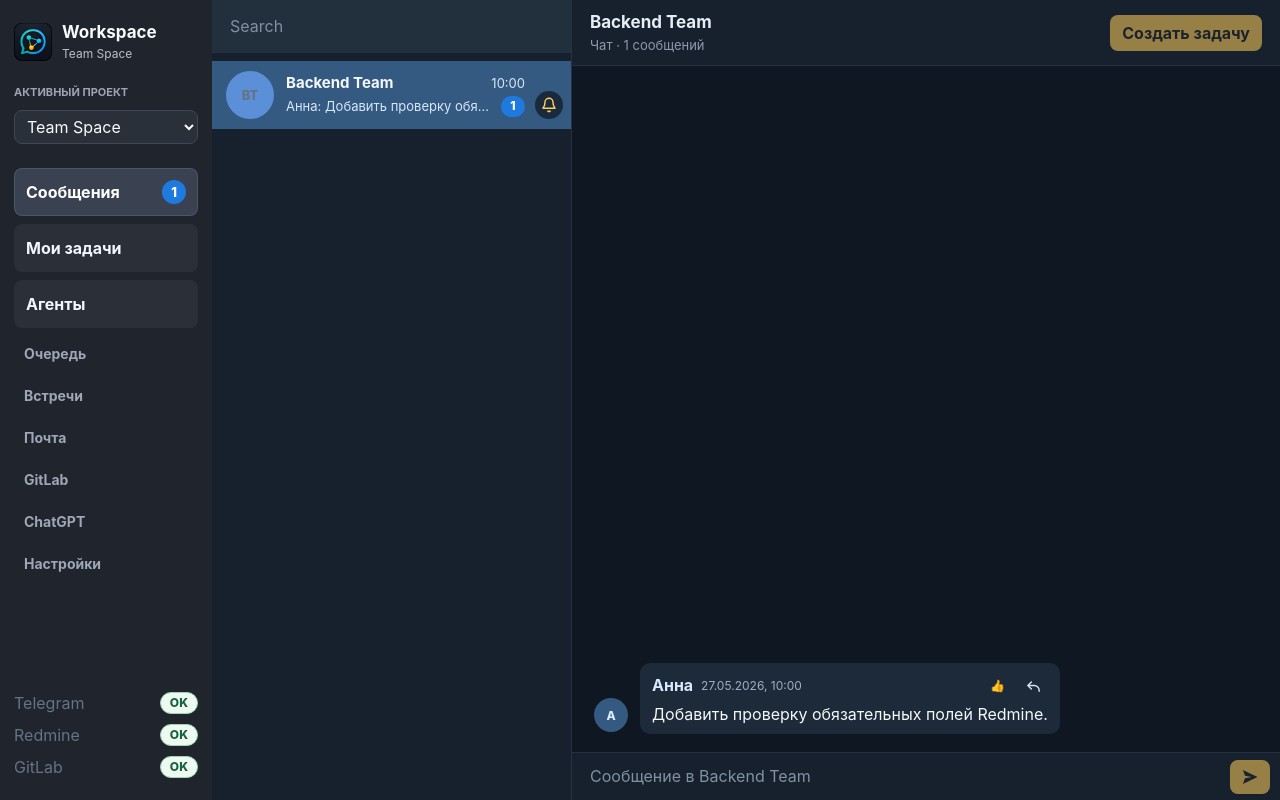
Test: App › starts an agent from an opened Redmine issue with selected folder and extra prompt
The image size is (1280, 800).
Click the button "Мои задачи" at {"x": 106, "y": 248}, box [14,224,198,272]
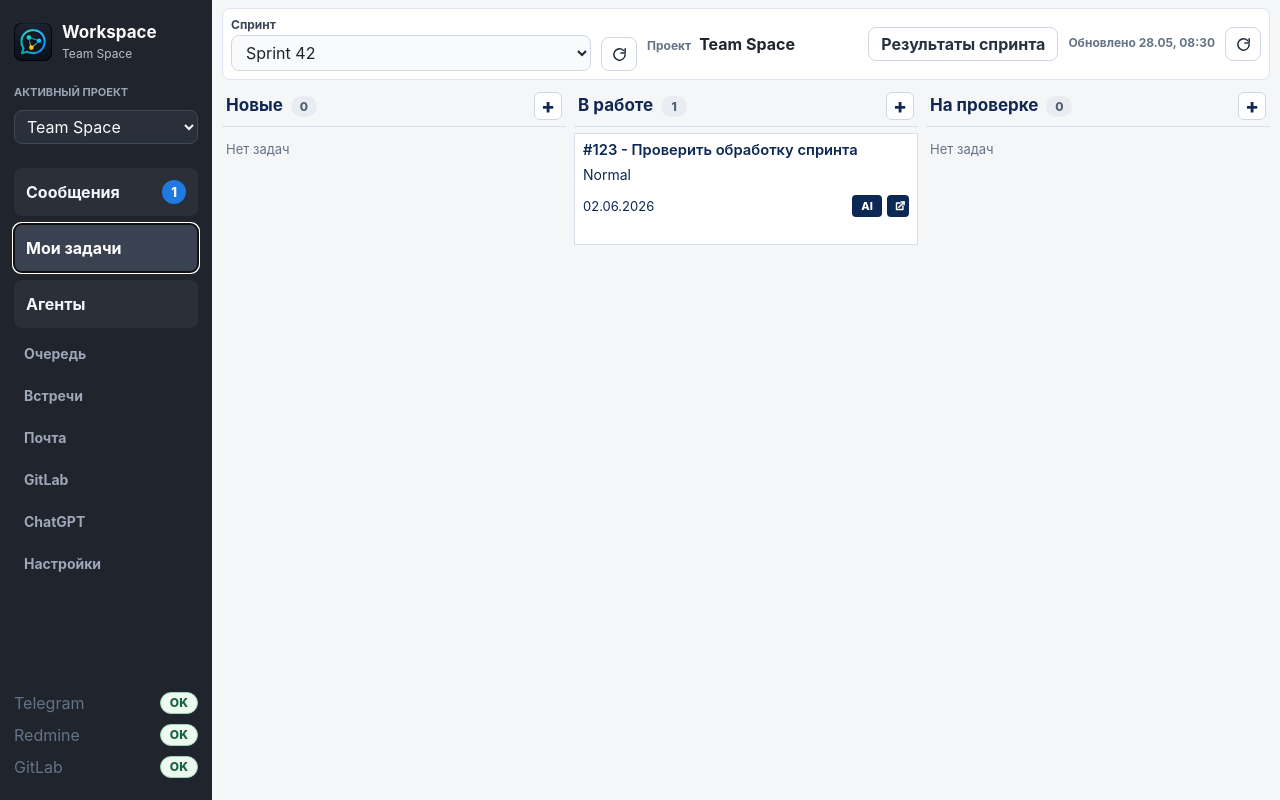
Expected: the heading "#123 - Проверить обработку спринта" is shown, [583,142,901,160]
Click the button with aria-label "Открыть карточку задачи #123 в приложении" at {"x": 745, "y": 150}, box [574,133,918,245]
(page scrolled)
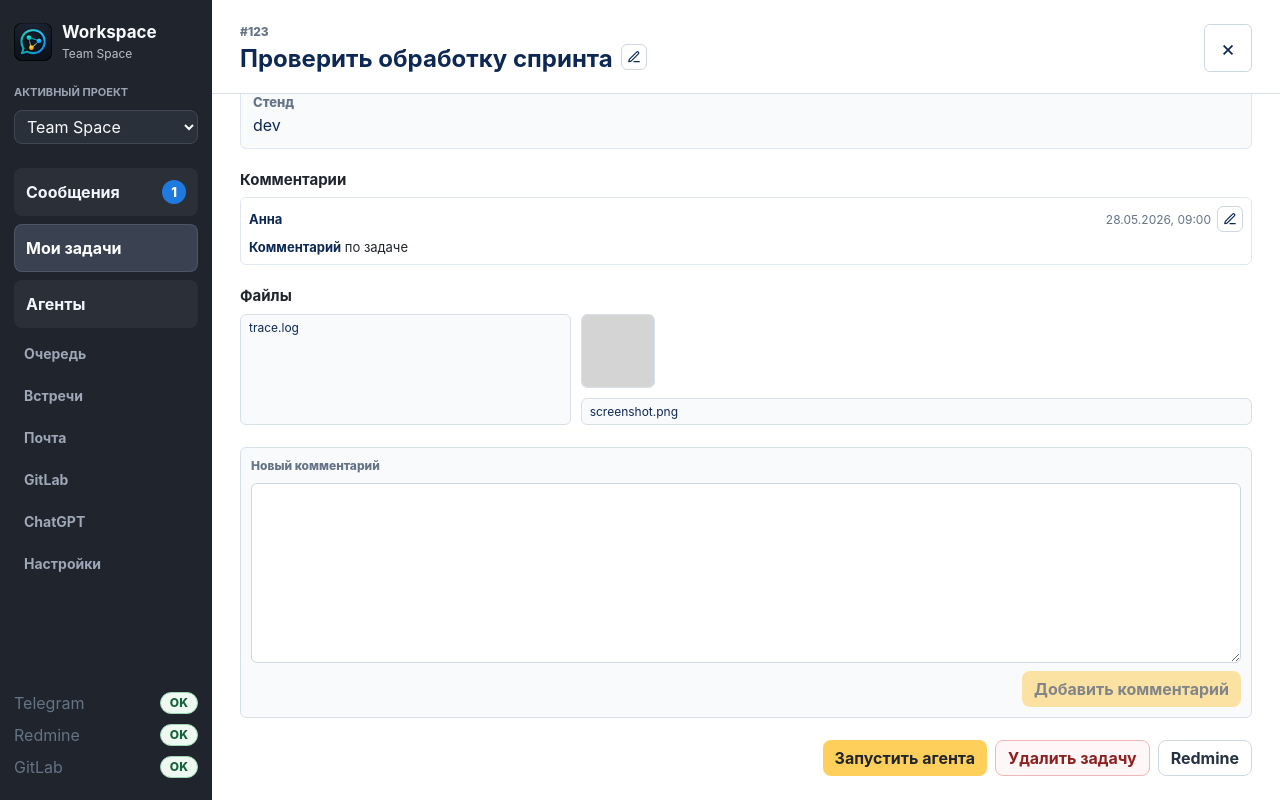
Expected: the element named "Задача #123" is shown
Click the button "Запустить агента" at {"x": 905, "y": 758}, box [823,740,987,776]
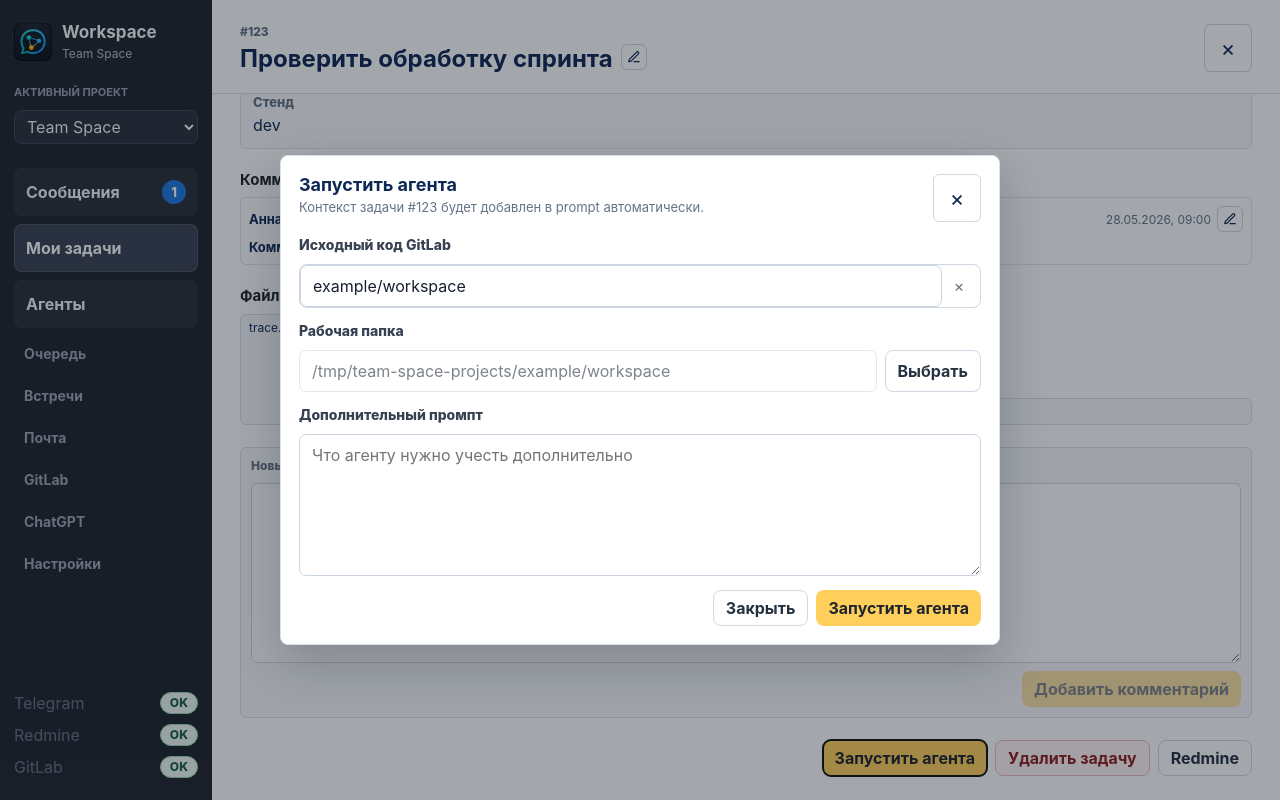
Click the button "Выбрать" at {"x": 933, "y": 371}, box [884,350,981,392]
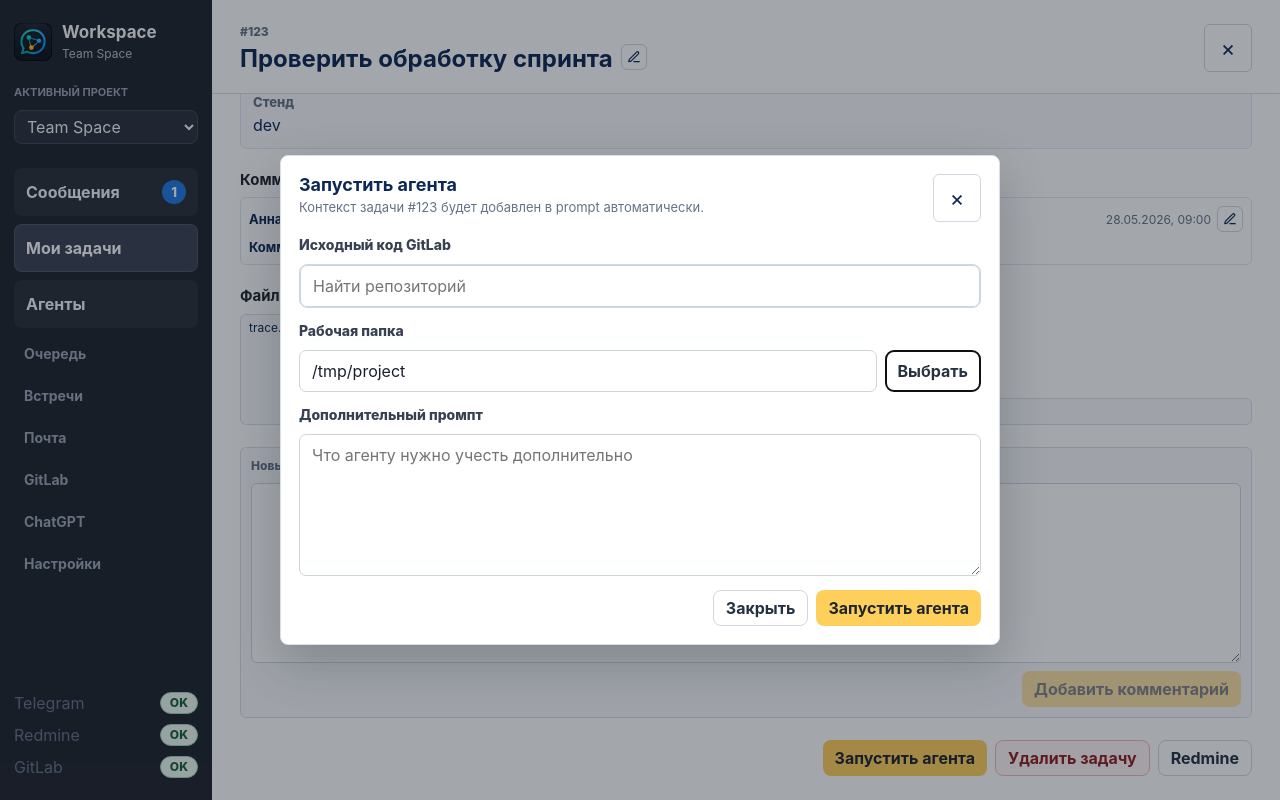
Type "Проверь сортировку пользователей." into the text box labelled "Дополнительный промпт" at {"x": 640, "y": 505}, box [299,434,981,576]
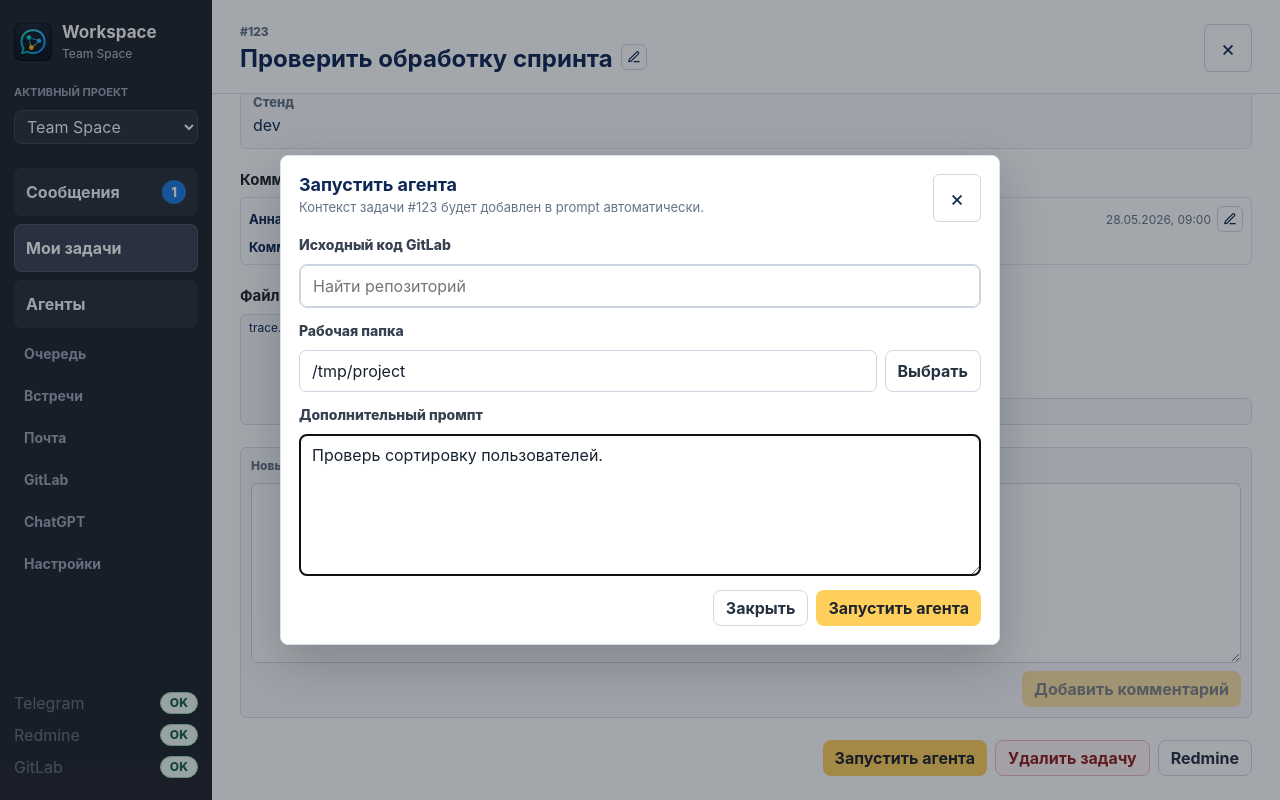
Click the button "Запустить агента" at {"x": 899, "y": 608}, box [816,590,981,626]
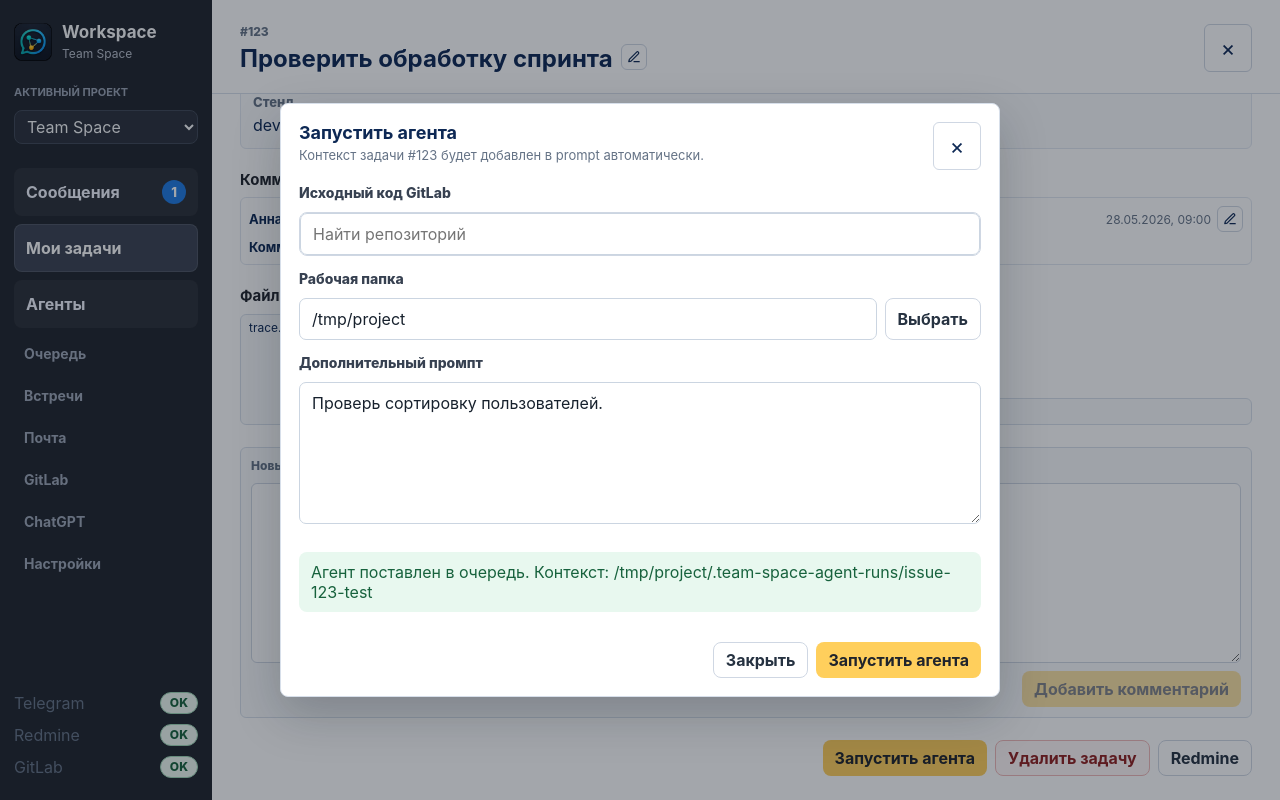
Expected: the text "Агент по задаче #123 запущен" is shown, [224,104,950,124]
